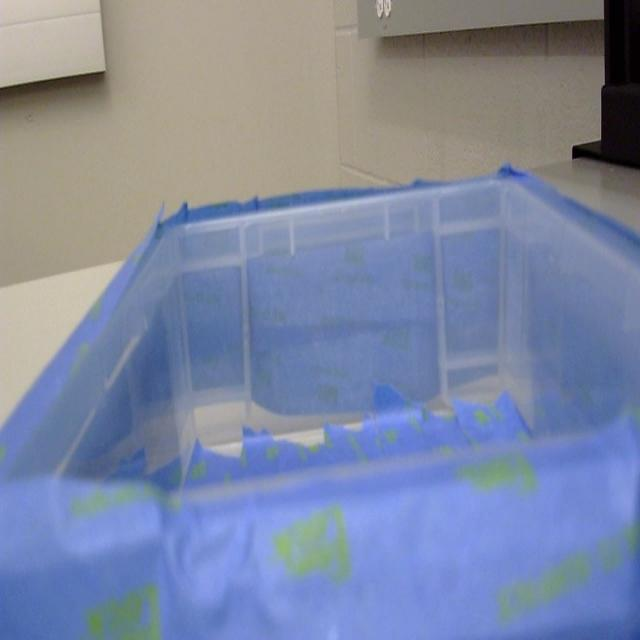bucket: (0, 167, 640, 640)
